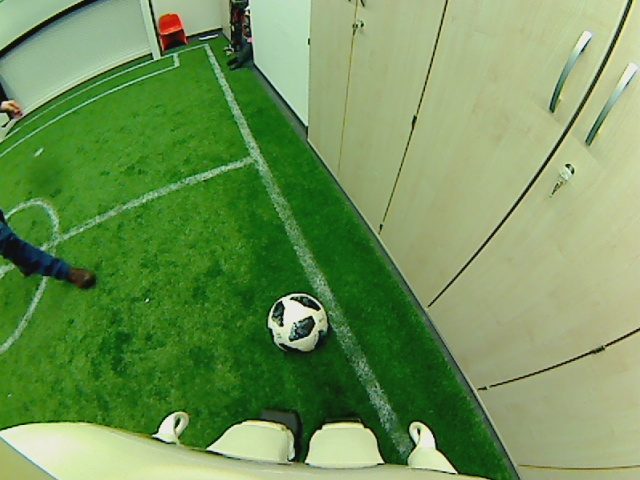ball: (266, 292, 329, 353)
